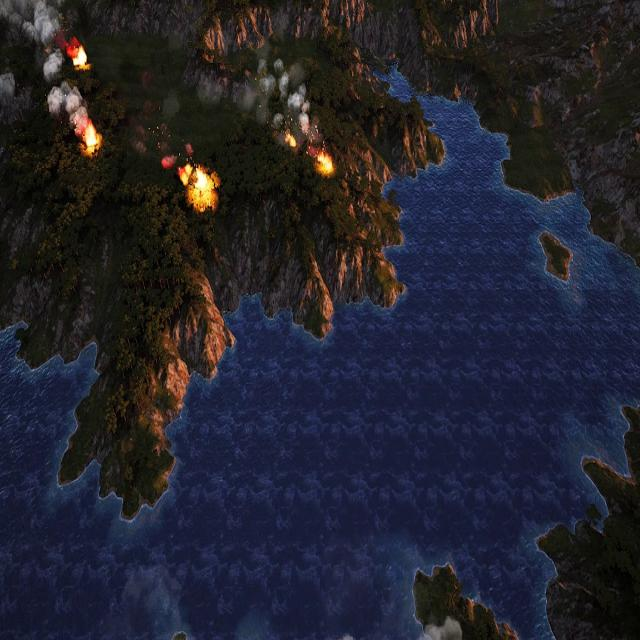fire: (180, 164, 216, 210), (67, 41, 88, 70), (82, 122, 100, 153), (319, 150, 336, 173), (285, 133, 296, 148)
smoke: (0, 0, 86, 129), (256, 55, 313, 142), (419, 616, 465, 640), (161, 140, 194, 172), (0, 71, 15, 104)
